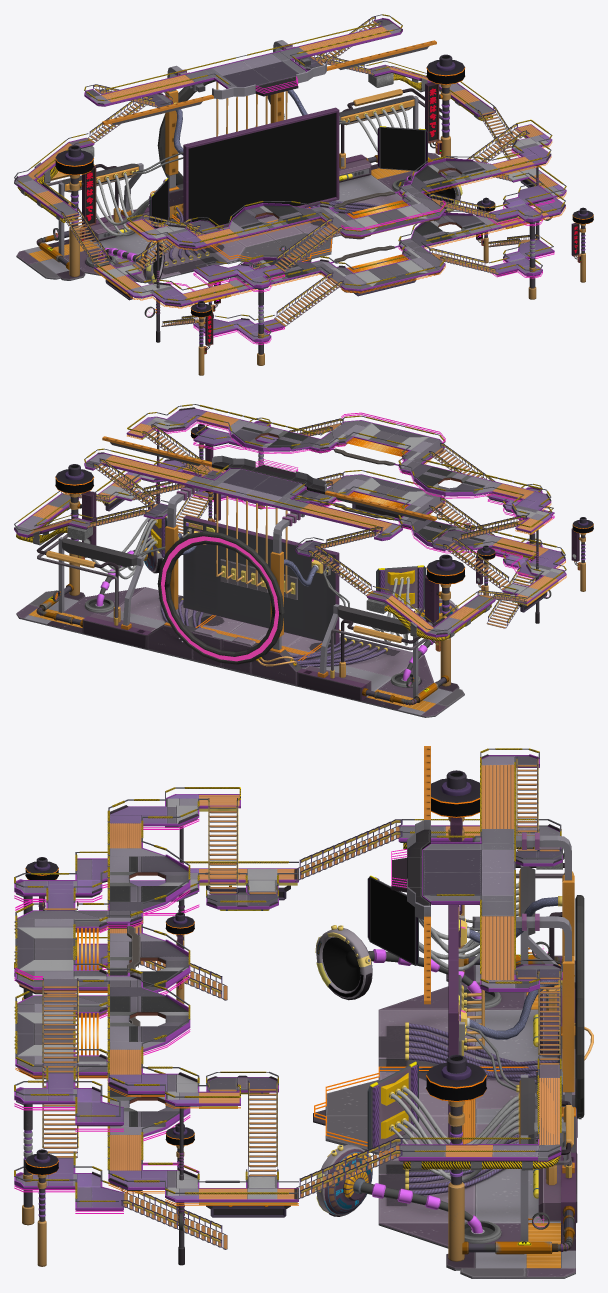
Rendered from MainStructure.glb.
3 renders of one model, top to bottom at view 1: azimuth 30°, elevation 25°; view 2: azimuth 150°, elevation 25°; view 3: azimuth 270°, elevation 25°, orthographic. The views are drawn at different scales.
Visible parts, largest first — view 1: Cube.022, Plane, Cube.035, Cube.065, Cube.029, Cube.016, Cube.030, Cube.051, Cube.062, Cylinder.006, Cube.006, Cylinder.022 (+12 smaller); view 2: Cube.022, Cube.035, Plane, Cube.065, Cube.029, Cube.016, Cube.030, Cube.051, Cube.062, Cube.063, Cylinder.006, Cube.032 (+11 smaller); view 3: Cube.022, Cube.035, Cube.065, Cube.029, Cube.016, Cube.074, Cube.030, Cube.062, Cube.051, Cube.044, Cube.006, Cylinder.022 (+13 smaller).
Boxes of the visible parts, <box> form: Cube.022: <box>16,40,442,283</box>; Plane: <box>183,107,339,231</box>; Cube.035: <box>14,18,566,343</box>; Cube.065: <box>128,124,552,285</box>; Cube.029: <box>95,167,565,339</box>; Cube.016: <box>17,73,493,260</box>; Cube.030: <box>14,14,566,337</box>; Cube.051: <box>126,124,554,289</box>; Cube.062: <box>61,16,521,266</box>; Cylinder.006: <box>55,145,96,276</box>; Cube.006: <box>127,119,553,282</box>; Cylinder.022: <box>425,54,465,159</box>; Cube.022: <box>16,436,464,717</box>; Cube.035: <box>14,452,566,637</box>; Plane: <box>183,515,339,644</box>; Cube.065: <box>128,409,552,530</box>; Cube.029: <box>96,460,564,601</box>; Cube.016: <box>16,498,491,646</box>; Cube.030: <box>14,448,566,631</box>; Cube.051: <box>126,407,554,534</box>; Cube.062: <box>61,458,526,602</box>; Cube.063: <box>132,424,526,590</box>; Cylinder.006: <box>425,554,465,686</box>; Cube.032: <box>216,493,297,599</box>; Cube.022: <box>313,746,584,1278</box>; Cube.035: <box>14,754,562,1210</box>; Cube.065: <box>16,794,239,1122</box>; Cube.029: <box>16,869,297,1207</box>; Cube.016: <box>367,843,581,1198</box>; Cube.074: <box>315,925,501,1243</box>; Cube.030: <box>14,748,562,1201</box>; Cube.062: <box>295,756,561,1199</box>; Cube.051: <box>14,794,240,1126</box>; Cube.044: <box>42,961,227,1249</box>; Cube.006: <box>14,787,240,1116</box>; Cylinder.022: <box>426,1054,486,1261</box>.
Size of what is drawn, in the model's own units: 128 by 46.17 by 94.23.
Materials: 9 (8 with a texture image).
